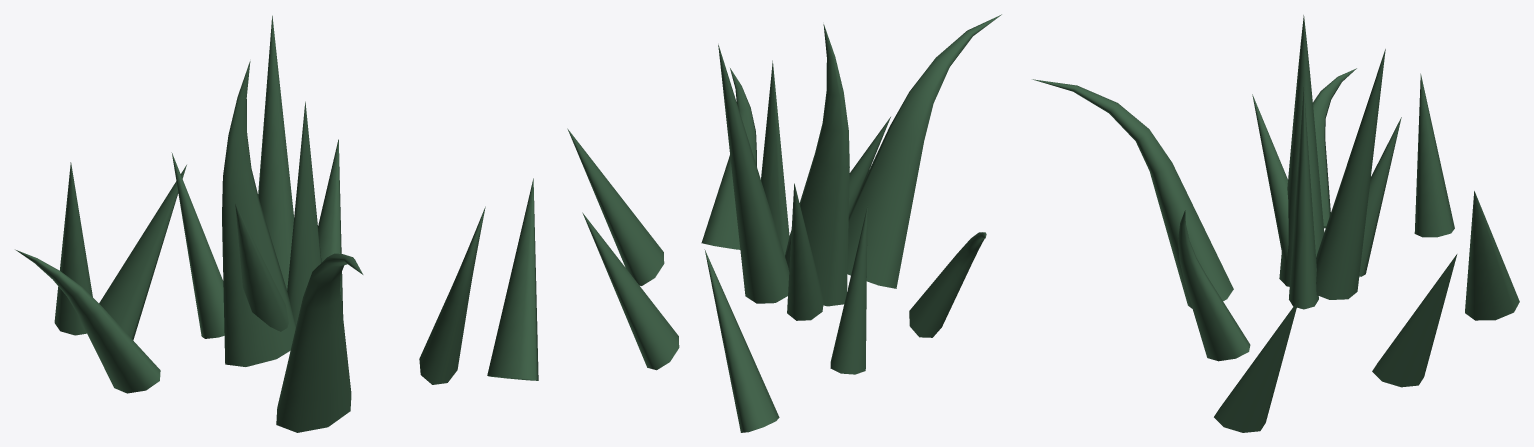
File: atoll_grassCluster_Dark.fbx
3 views of the same model, side by side, from view 1: azimuth 30°, elevation 25°; view 2: azimuth 150°, elevation 25°; view 3: azimuth 270°, elevation 25° (orthographic). The views are drawn at different scales.
Visible parts, largest first — view 1: pCone16, pCone19, pCone25, pCone18, pCone26, pCone27, pCone21, pCone17, pCone23, pCone22, pCone24, pCone20; view 2: pCone19, pCone16, pCone18, pCone27, pCone20, pCone25, pCone22, pCone26, pCone23, pCone21, pCone17, pCone24; view 3: pCone18, pCone19, pCone21, pCone27, pCone25, pCone20, pCone16, pCone17, pCone22, pCone24, pCone23, pCone26.
Boxes of the visible parts, <box> form: pCone16: <box>222,61,295,366</box>; pCone19: <box>276,253,363,432</box>; pCone25: <box>487,178,538,380</box>; pCone18: <box>258,15,294,290</box>; pCone26: <box>15,249,160,393</box>; pCone27: <box>99,165,186,339</box>; pCone21: <box>419,206,485,384</box>; pCone17: <box>287,101,321,327</box>; pCone23: <box>171,152,224,338</box>; pCone22: <box>54,162,92,335</box>; pCone24: <box>235,204,288,331</box>; pCone20: <box>318,139,343,317</box>; pCone19: <box>847,14,1001,288</box>; pCone16: <box>785,24,849,306</box>; pCone18: <box>718,44,789,303</box>; pCone27: <box>704,249,779,432</box>; pCone20: <box>582,212,679,370</box>; pCone25: <box>567,128,664,285</box>; pCone22: <box>830,206,867,374</box>; pCone26: <box>909,232,986,337</box>; pCone23: <box>787,183,823,320</box>; pCone21: <box>701,68,756,249</box>; pCone17: <box>761,60,789,255</box>; pCone24: <box>848,117,890,219</box>; pCone18: <box>1316,49,1385,299</box>; pCone19: <box>1032,79,1233,308</box>; pCone21: <box>1178,210,1250,361</box>; pCone27: <box>1465,191,1519,320</box>; pCone25: <box>1214,299,1298,432</box>; pCone20: <box>1372,254,1457,387</box>; pCone16: <box>1279,15,1324,286</box>; pCone17: <box>1289,87,1318,309</box>; pCone22: <box>1414,73,1454,237</box>; pCone24: <box>1252,94,1288,260</box>; pCone23: <box>1359,117,1401,276</box>; pCone26: <box>1313,68,1356,228</box>.
Size of the model in its own units: 5.88 by 4.13 by 5.77.
